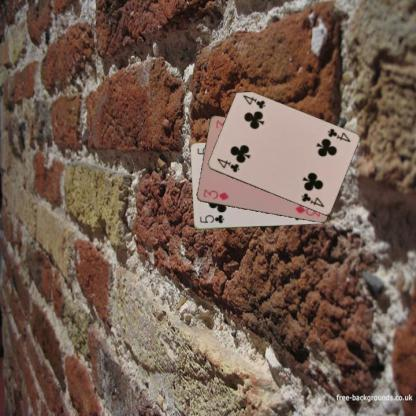3d: (201, 186, 230, 202)
4c: (214, 156, 240, 174), (325, 126, 351, 143)
5c: (197, 212, 225, 225)
